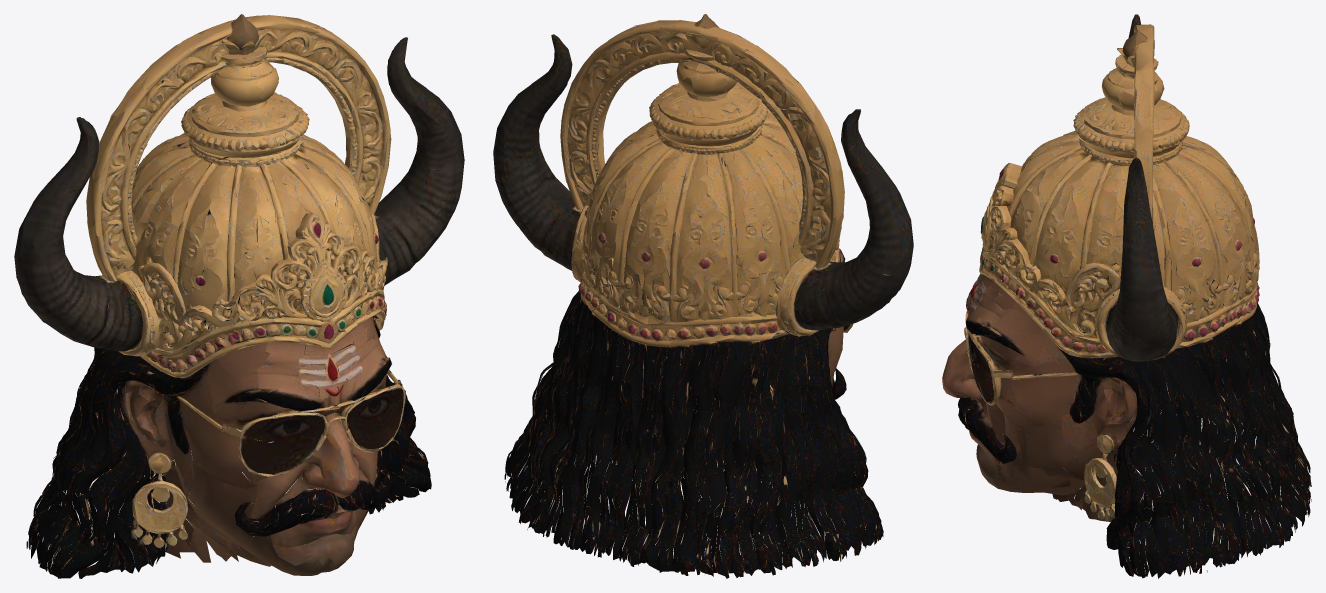
File: ravan-head2-web.glb
3 renders of one model, left to right at view 1: azimuth 30°, elevation 25°; view 2: azimuth 150°, elevation 25°; view 3: azimuth 270°, elevation 25°, orthographic. The views are drawn at different scales.
Parts seen in each view (by area): view 1: mesh_node; view 2: mesh_node; view 3: mesh_node.
Boxes of the visible parts, <box> form: mesh_node: <box>14,14,464,578</box>; mesh_node: <box>493,14,913,578</box>; mesh_node: <box>942,14,1311,578</box>.
Size of the model in its own units: 1.57 by 1.75 by 1.26.
Materials: 1 (1 with a texture image).
